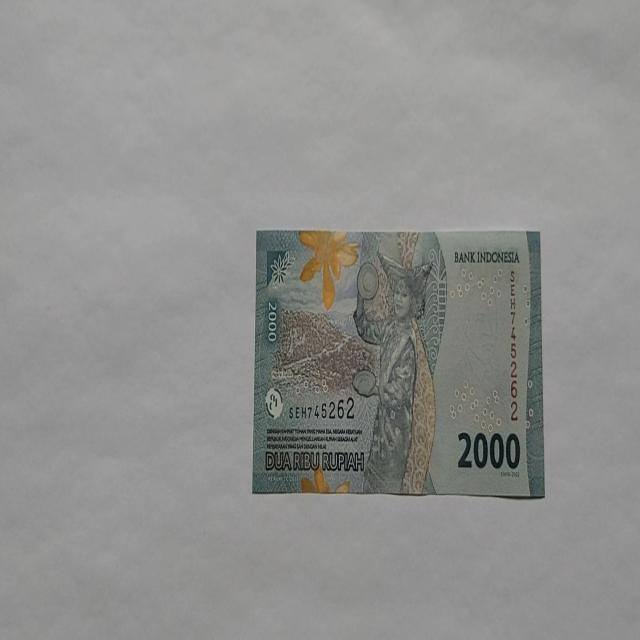dua ribu rupiah: (252, 228, 544, 498), (351, 250, 437, 494), (298, 228, 360, 310)
